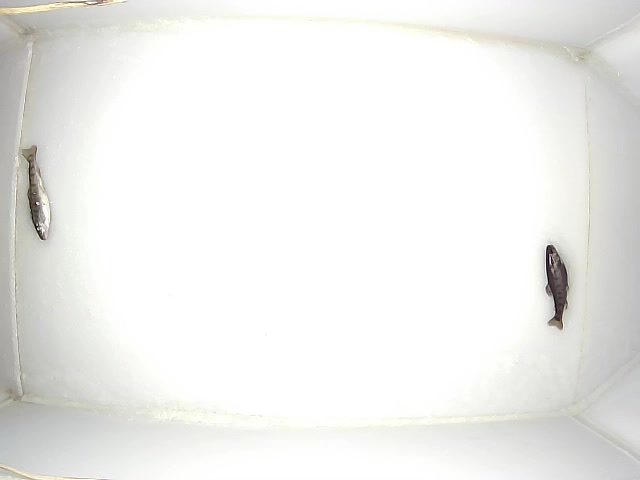fish: (20, 145, 51, 240), (545, 244, 569, 330)
